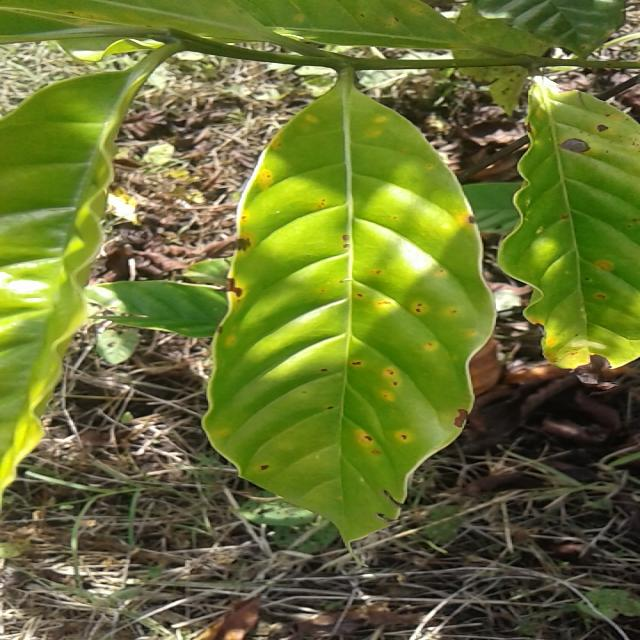Enfermedad-Roya: (201, 76, 496, 546)
